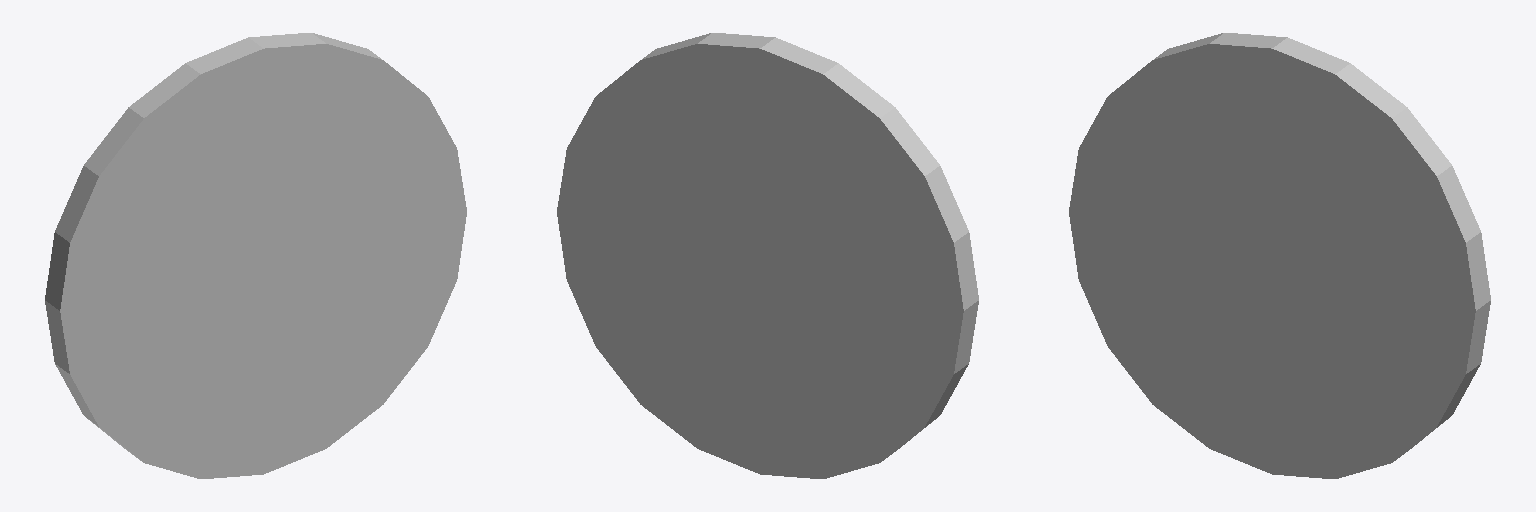
Rendered from earthPlane.obj.
The picture shows the model from 3 angles: view 1: azimuth 30°, elevation 25°; view 2: azimuth 150°, elevation 25°; view 3: azimuth 330°, elevation 25°; orthographic projection.
Bounding box in the file's own units: 0.1754 × 0.1754 × 0.0115.